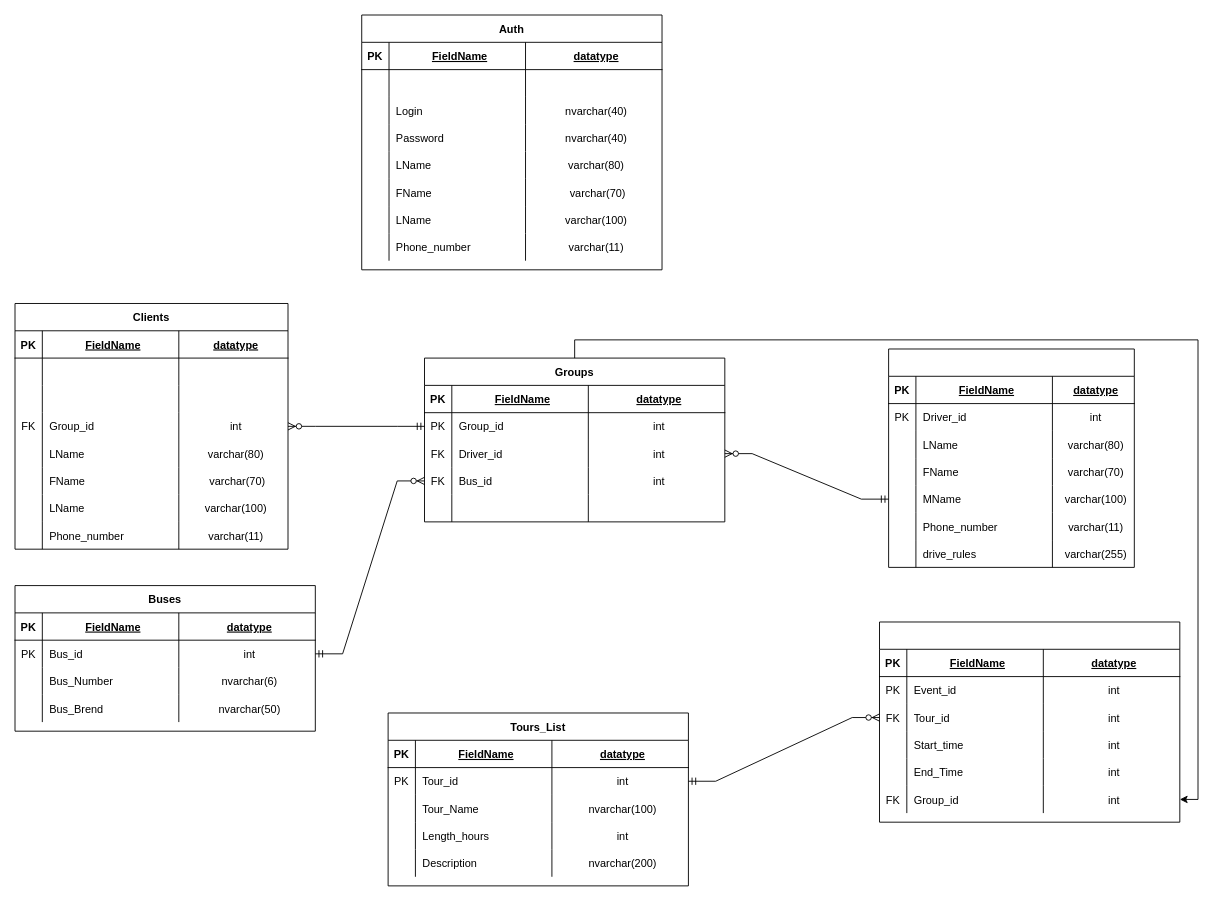
Some shapes in this 1213 by 901 pixel diagram are drawn without their labels. Each missing label, with the box of its shape:
Drivers: (888, 348, 1134, 567)
Events: (879, 621, 1180, 822)
